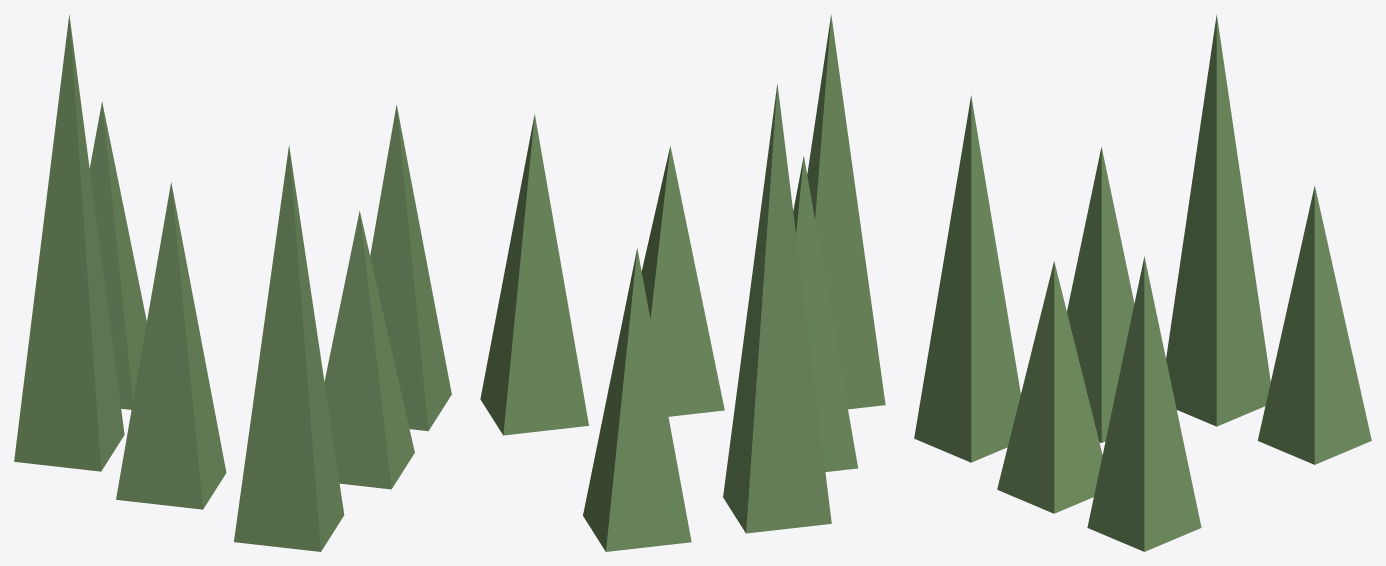
Rendered from prop_weeds.fbx.
The picture shows the model from 3 angles, left to right: view 1: azimuth 30°, elevation 25°; view 2: azimuth 150°, elevation 25°; view 3: azimuth 270°, elevation 25°; orthographic projection. The views are drawn at different scales.
Visible parts, largest first — view 1: prop_weeds; view 2: prop_weeds; view 3: prop_weeds.
Boxes of the visible parts, bbox=[...] form: prop_weeds: bbox=[14, 15, 451, 551]; prop_weeds: bbox=[480, 15, 885, 551]; prop_weeds: bbox=[914, 15, 1371, 551].
Size of the model in its own units: 0.5754 by 0.6009 by 0.6415.
1 material, 1 textured.
